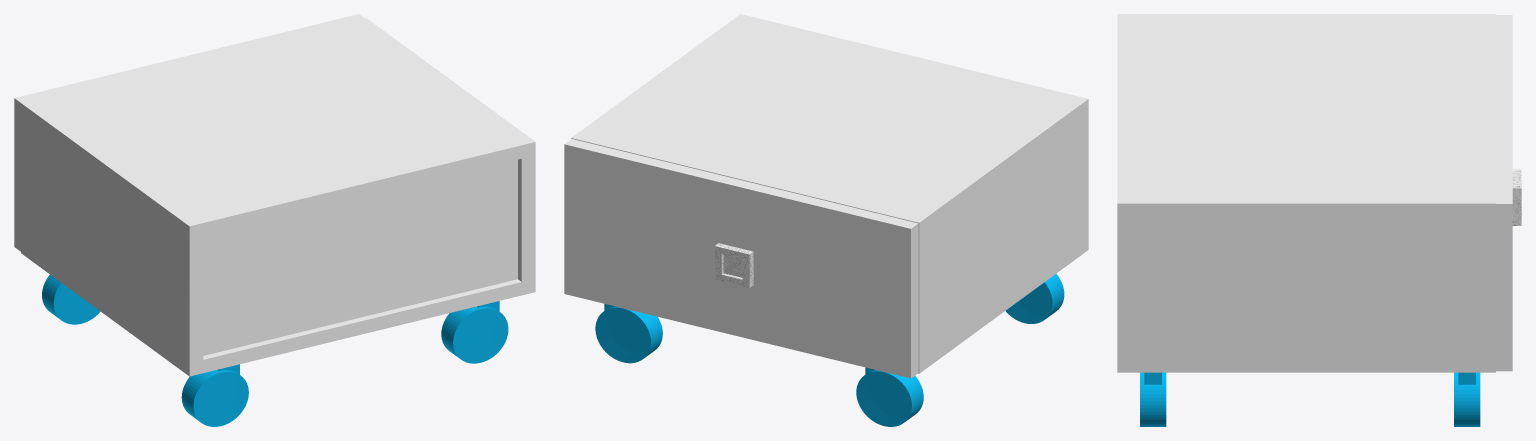
3 renders of one model, left to right at view 1: azimuth 30°, elevation 25°; view 2: azimuth 150°, elevation 25°; view 3: azimuth 270°, elevation 25°, orthographic. The views are drawn at different scales.
Visible parts, largest first — view 1: mesh1_mesh1-geometry, mesh4_mesh4-geometry, mesh5_mesh5-geometry, mesh6_mesh6-geometry; view 2: mesh1_mesh1-geometry, mesh6_mesh6-geometry, mesh3_mesh3-geometry, mesh5_mesh5-geometry, mesh2_mesh2-geometry; view 3: mesh1_mesh1-geometry, mesh3_mesh3-geometry, mesh4_mesh4-geometry, mesh2_mesh2-geometry.
Boxes of the visible parts, <box> form: mesh1_mesh1-geometry: <box>14,14,535,376</box>; mesh4_mesh4-geometry: <box>441,301,508,363</box>; mesh5_mesh5-geometry: <box>181,364,248,426</box>; mesh6_mesh6-geometry: <box>42,274,100,324</box>; mesh1_mesh1-geometry: <box>564,14,1088,378</box>; mesh6_mesh6-geometry: <box>856,367,923,426</box>; mesh3_mesh3-geometry: <box>595,304,662,363</box>; mesh5_mesh5-geometry: <box>1005,273,1064,323</box>; mesh2_mesh2-geometry: <box>714,243,753,287</box>; mesh1_mesh1-geometry: <box>1117,14,1512,372</box>; mesh3_mesh3-geometry: <box>1454,372,1480,426</box>; mesh4_mesh4-geometry: <box>1140,372,1166,426</box>; mesh2_mesh2-geometry: <box>1512,169,1521,225</box>.
Size of the model in its own units: 0.6788 by 0.4073 by 0.611.
